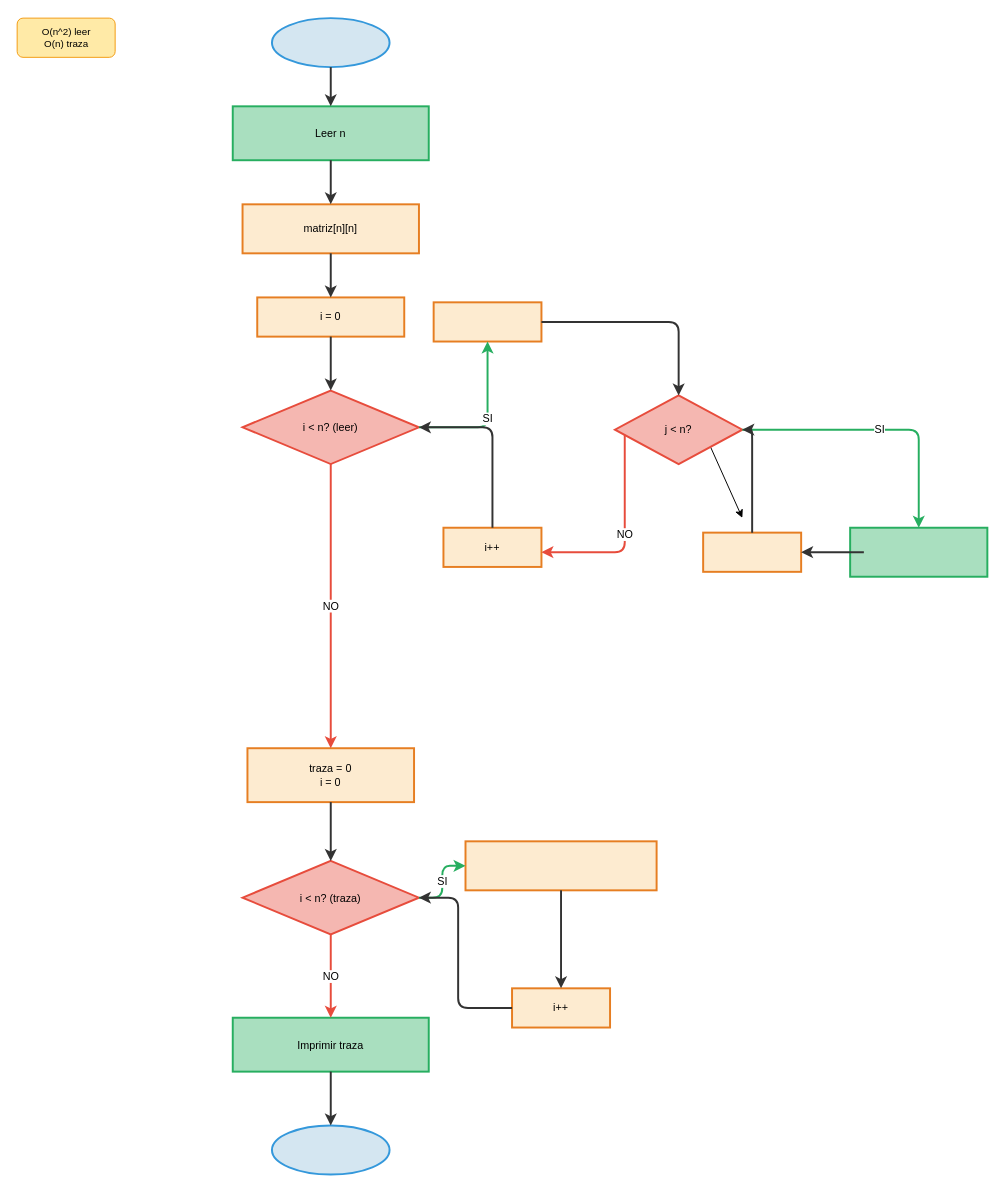
The diagram is 1005 pixels wide and 1192 high, and some of its shapes have lost their labels. Here are the shapes that lost their labels. From the top down, the box of each, then its label:
(270, 17, 390, 68): INICIO
(432, 301, 542, 342): j = 0
(702, 531, 802, 572): j++
(849, 526, 988, 577): Leer matriz[i][j]
(464, 840, 657, 891): traza += matriz[i][i]
(270, 1124, 390, 1175): FIN
